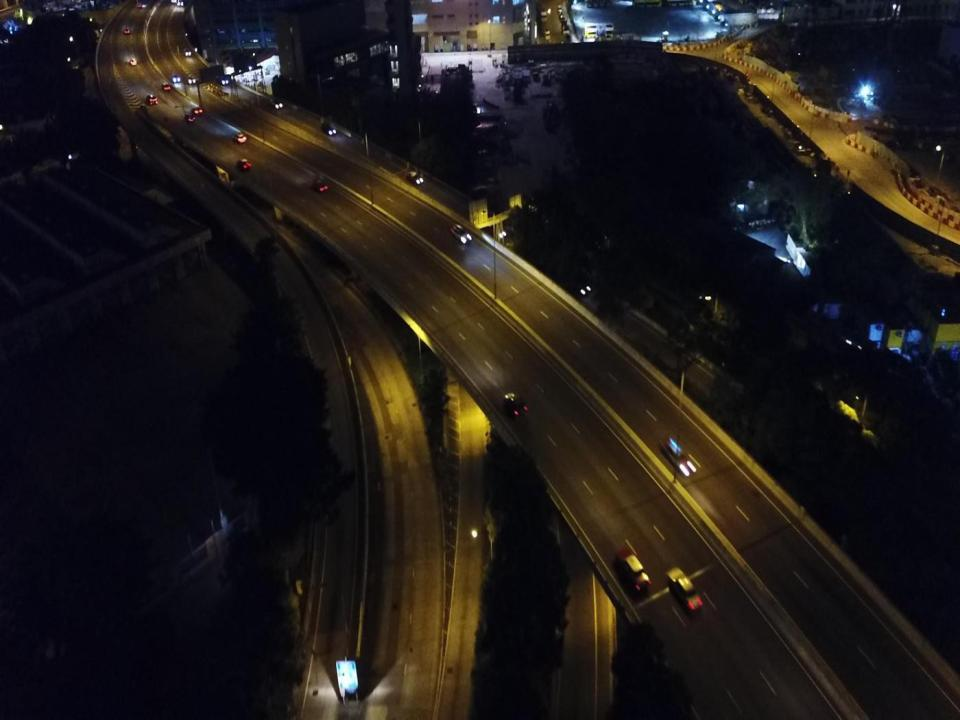bus: (584, 23, 614, 39), (632, 0, 662, 8), (664, 0, 693, 5)
car: (666, 566, 702, 616), (616, 545, 652, 593), (664, 439, 694, 475), (503, 392, 526, 415), (567, 279, 590, 295), (451, 225, 471, 243), (489, 222, 506, 237), (405, 171, 423, 184), (311, 181, 327, 191), (237, 158, 250, 169), (216, 75, 229, 85), (270, 98, 283, 108), (322, 124, 335, 134), (234, 134, 245, 144), (184, 114, 196, 122), (162, 82, 171, 90), (192, 108, 202, 115), (172, 75, 180, 83), (188, 76, 196, 83), (130, 58, 136, 66), (184, 48, 190, 56), (124, 29, 130, 35), (136, 3, 142, 8), (560, 14, 564, 20)
truck: (540, 3, 548, 22), (544, 28, 550, 40)
van: (792, 142, 805, 155), (146, 94, 157, 105), (558, 4, 562, 12)
